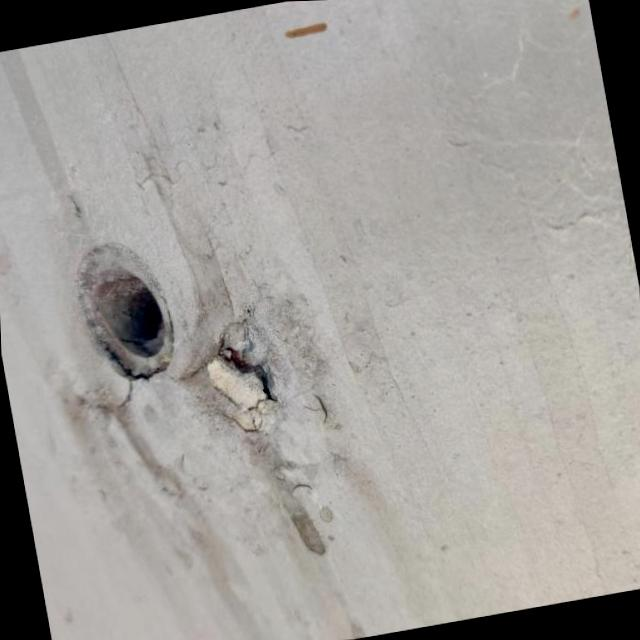Missing Fastener: (76, 242, 175, 378)
